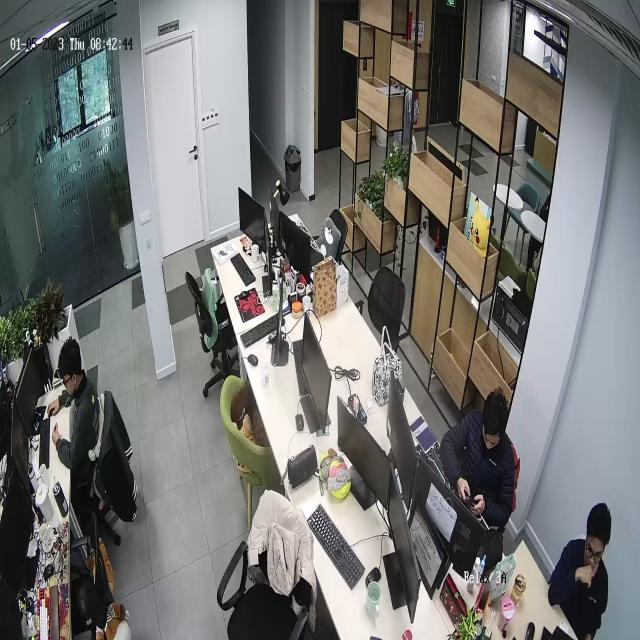person: (438, 388, 515, 533), (46, 339, 102, 530), (547, 502, 611, 640)
